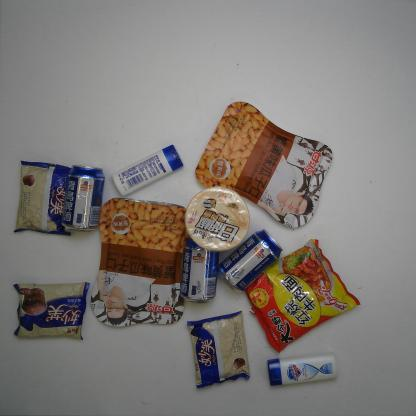Alcohol: (217, 228, 283, 293), (60, 164, 106, 233), (179, 236, 220, 305)
Dessert: (186, 310, 251, 389), (12, 159, 72, 238), (12, 281, 90, 341)
Dried Fruit: (194, 101, 334, 228), (90, 196, 191, 328)
Instant Noodles: (244, 238, 362, 354), (184, 186, 252, 254)
Personal Hygiene: (111, 143, 184, 197), (266, 353, 338, 386)
